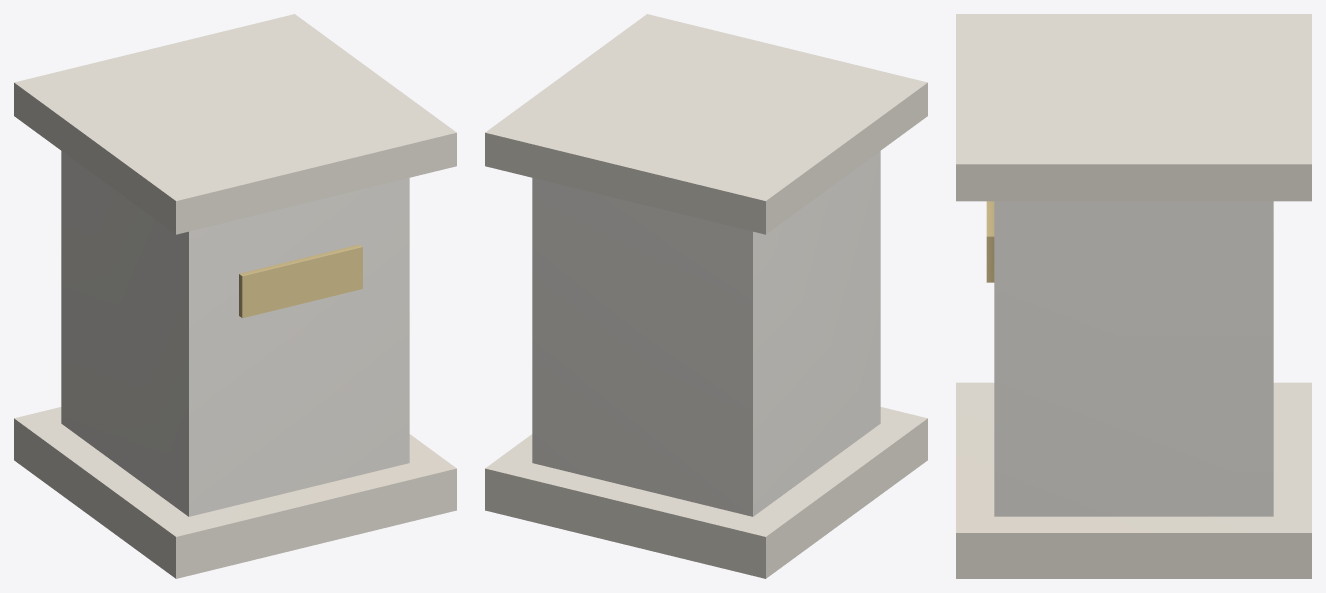
The model's file is VPedestal.fbx.
The picture shows the model from 3 angles, left to right: view 1: azimuth 30°, elevation 25°; view 2: azimuth 150°, elevation 25°; view 3: azimuth 270°, elevation 25°; orthographic projection. The views are drawn at different scales.
Parts seen in each view (by area): view 1: VPedestal; view 2: VPedestal; view 3: VPedestal.
Part boxes in pixels (<box>): VPedestal: <box>14,14,456,578</box>; VPedestal: <box>485,14,927,578</box>; VPedestal: <box>956,14,1311,578</box>.
Size of the model in its own units: 0.7 by 0.9 by 0.7.
